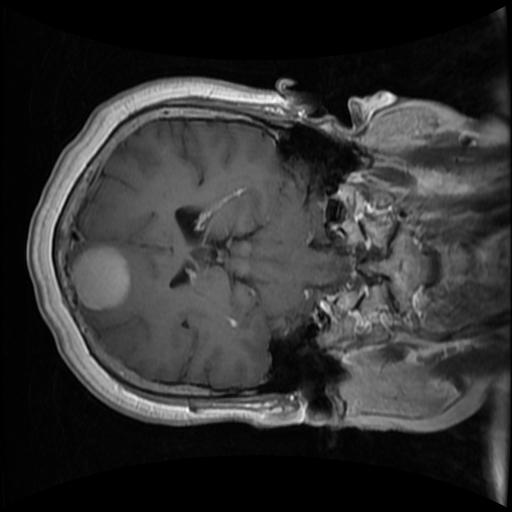meningioma: (69, 246, 128, 308)
